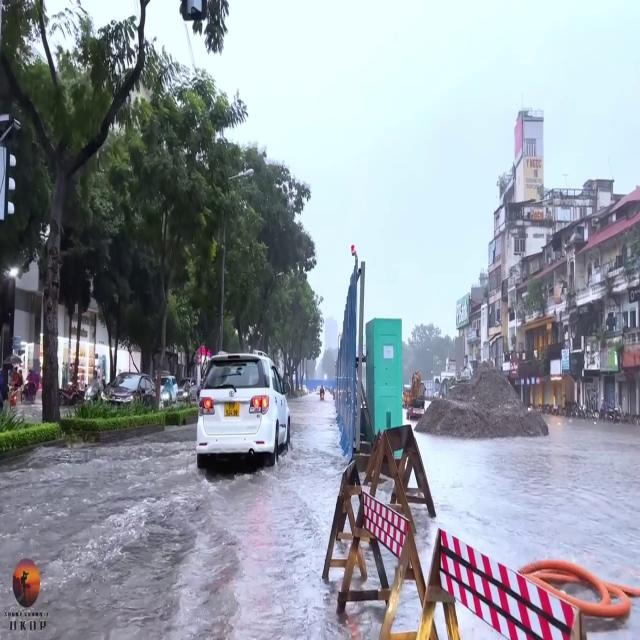bien_vang: (222, 401, 240, 417)
